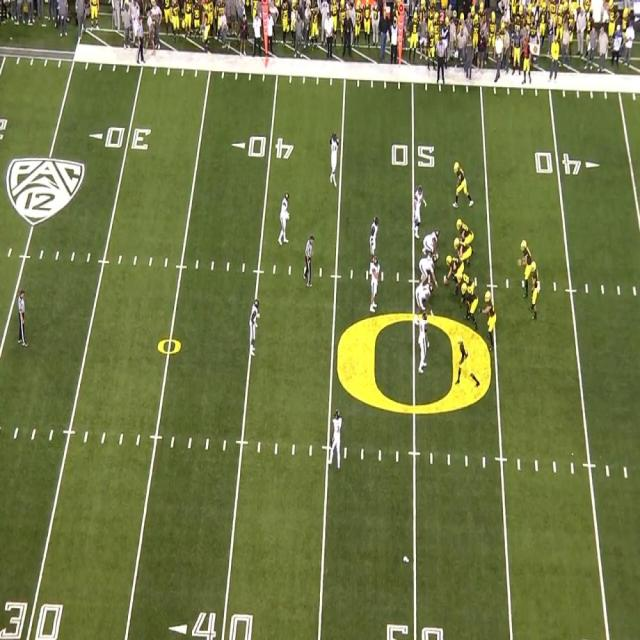center: (443, 252, 465, 282)
db: (328, 409, 343, 475), (277, 189, 291, 243), (328, 132, 340, 182), (248, 300, 258, 352)
lb: (369, 258, 381, 314), (416, 317, 429, 367), (413, 186, 423, 232), (369, 218, 378, 256)
qb: (516, 236, 534, 297)
